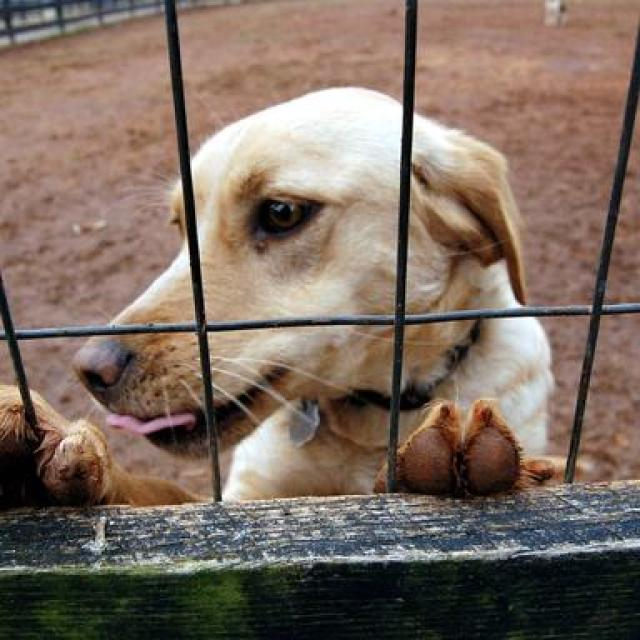sad: (72, 64, 612, 534)
